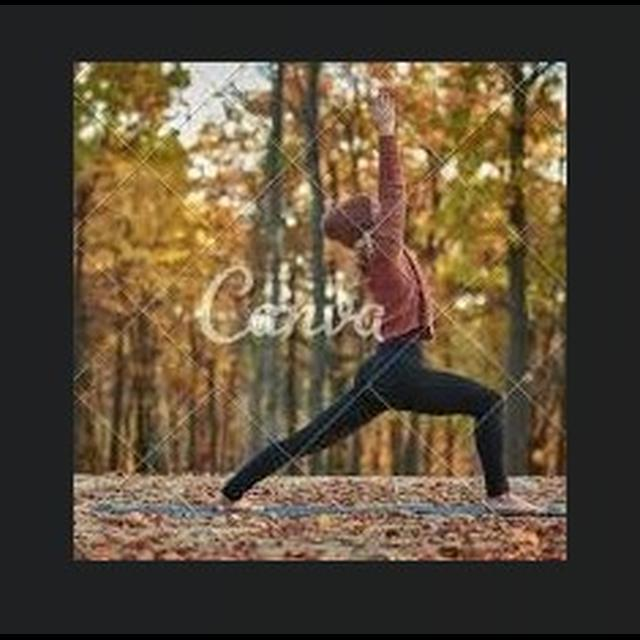Warrior_I: (204, 85, 545, 518)
